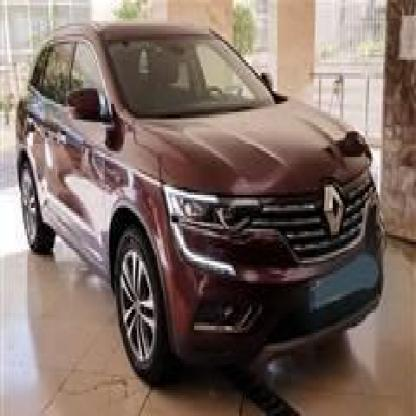Car: (1, 8, 387, 398)
